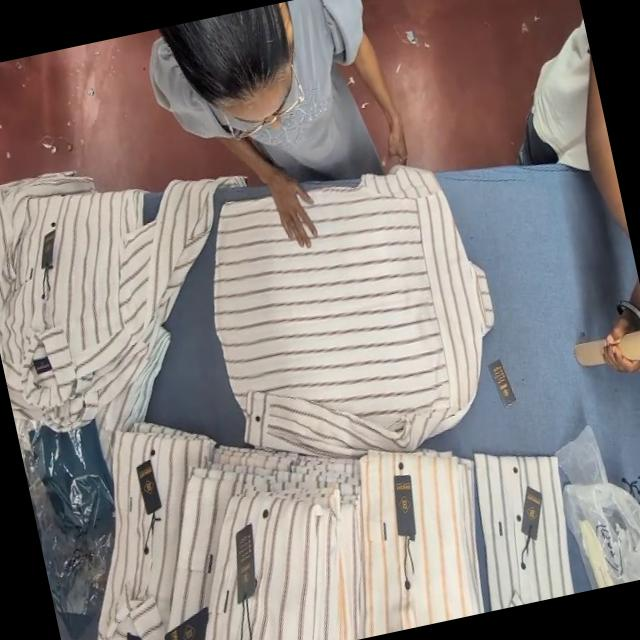new-garment: (213, 166, 492, 454)
